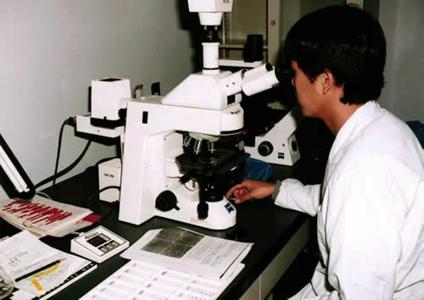person: (226, 8, 424, 299)
